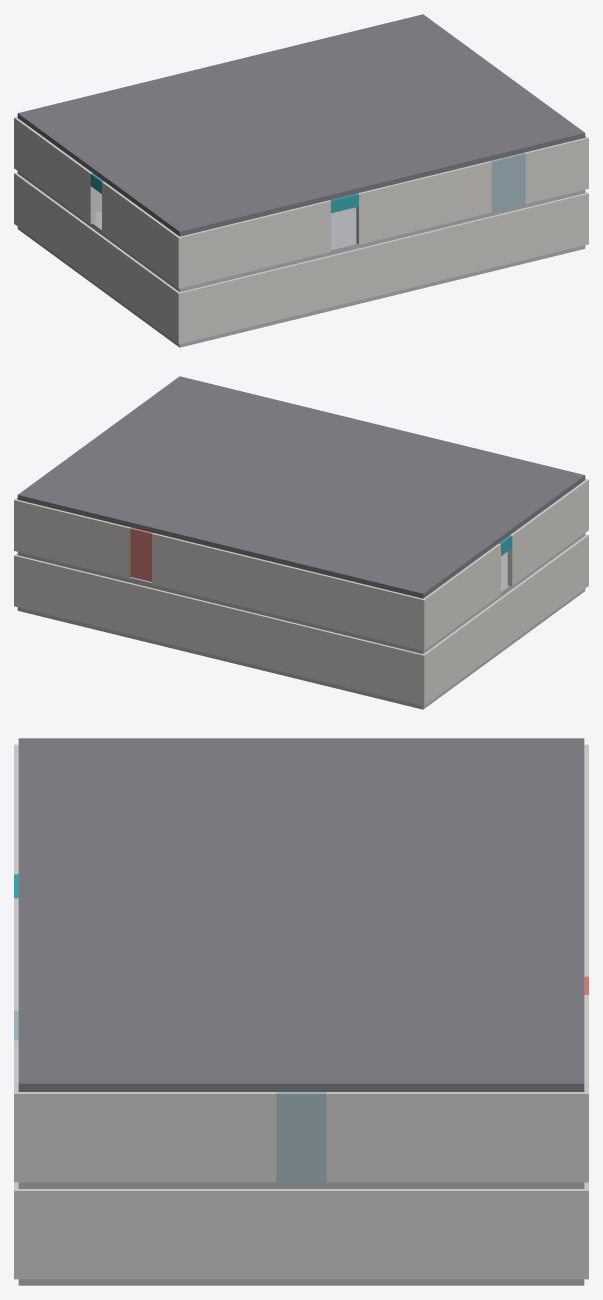
Rendered from credit_union_a01.glb.
3 views of the same model, one above another, from view 1: azimuth 30°, elevation 25°; view 2: azimuth 150°, elevation 25°; view 3: azimuth 270°, elevation 25° (orthographic). The views are drawn at different scales.
Parts seen in each view (by area): view 1: slab_1_t0_0, slab_1_t0_5, slab_1_t0_2, slab_1_t0_4, slab_1_t0_1, slab_1_t0_3, slab_1_t1_0, slab_1_t3_0, slab_1_t2_0, slab_1_t3_1, slab_1_t1_1, slab_1_t1_4 (+58 smaller); view 2: slab_1_t3_0, slab_1_t3_5, slab_1_t3_2, slab_1_t3_4, slab_1_t3_1, slab_1_t3_3, slab_1_t0_0, slab_1_t2_0, slab_1_t1_0, slab_1_t0_1, slab_1_t1_2, slab_1_t1_4 (+56 smaller); view 3: slab_1_t0_5, slab_1_t1_5, slab_1_t2_5, slab_1_t3_5, slab_1_t1_1, slab_1_t0_1, slab_1_t2_1, slab_1_t3_1, slab_1_t0_0, slab_1_t0_2, slab_1_t0_4, slab_1_t1_0 (+43 smaller).
Boxes of the visible parts, x1,y1,x2,y2 form: slab_1_t0_0: [139, 185, 247, 236]; slab_1_t0_5: [477, 103, 585, 153]; slab_1_t0_2: [275, 153, 382, 203]; slab_1_t0_4: [410, 120, 517, 170]; slab_1_t0_1: [207, 169, 314, 219]; slab_1_t0_3: [342, 136, 449, 186]; slab_1_t1_0: [98, 156, 206, 206]; slab_1_t3_0: [17, 97, 125, 147]; slab_1_t2_0: [58, 126, 165, 176]; slab_1_t3_1: [85, 80, 192, 126]; slab_1_t1_1: [166, 139, 273, 185]; slab_1_t1_4: [369, 90, 476, 135]; slab_1_t3_0: [355, 547, 463, 598]; slab_1_t3_5: [17, 465, 125, 515]; slab_1_t3_2: [220, 515, 327, 565]; slab_1_t3_4: [85, 482, 192, 532]; slab_1_t3_1: [288, 531, 395, 581]; slab_1_t3_3: [153, 498, 260, 548]; slab_1_t0_0: [477, 459, 585, 509]; slab_1_t2_0: [396, 518, 504, 568]; slab_1_t1_0: [437, 488, 544, 538]; slab_1_t0_1: [410, 442, 517, 488]; slab_1_t1_2: [302, 455, 408, 501]; slab_1_t1_4: [167, 422, 273, 468]; slab_1_t0_5: [18, 1026, 159, 1091]; slab_1_t1_5: [160, 1026, 301, 1091]; slab_1_t2_5: [301, 1026, 442, 1091]; slab_1_t3_5: [443, 1026, 584, 1091]; slab_1_t1_1: [160, 795, 301, 853]; slab_1_t0_1: [18, 795, 159, 853]; slab_1_t2_1: [301, 795, 442, 853]; slab_1_t3_1: [443, 795, 584, 853]; slab_1_t0_0: [18, 738, 159, 795]; slab_1_t0_2: [18, 853, 159, 910]; slab_1_t0_4: [18, 968, 159, 1025]; slab_1_t1_0: [160, 738, 301, 795].
Size of what is drawn, in the model's own units: 26.3 by 7.1 by 18.3.
